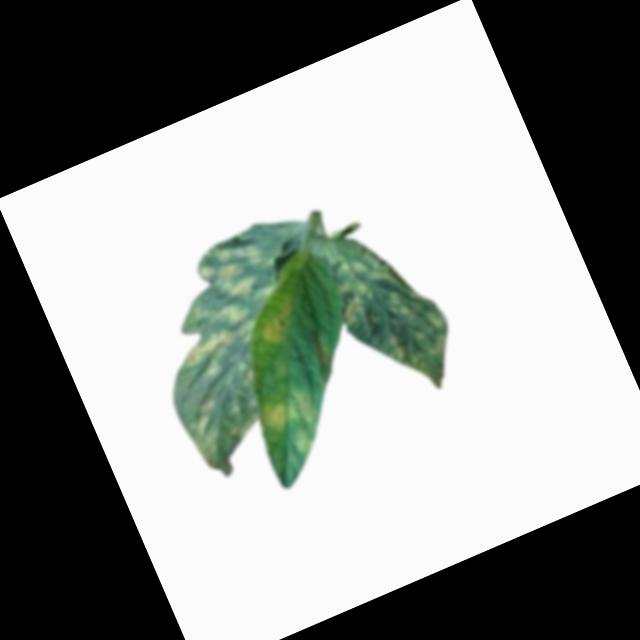Leaf_Mold: (123, 227, 331, 465), (313, 217, 472, 417), (250, 297, 306, 357), (259, 383, 319, 436), (288, 426, 319, 463)
